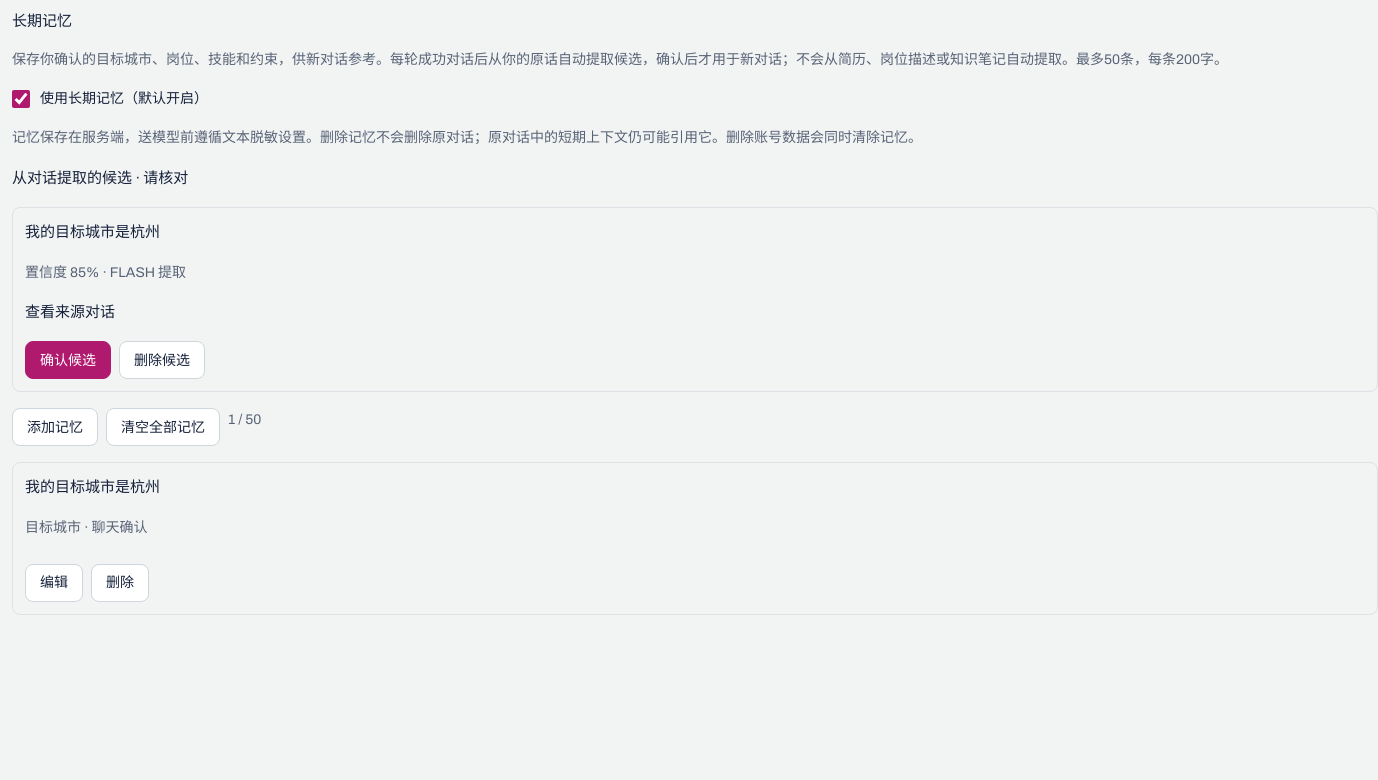
Test: shows exact extracted facts with confidence and source and confirms or discards explicitly
Click the button "确认候选" at (68, 360), box [25,341,111,379]
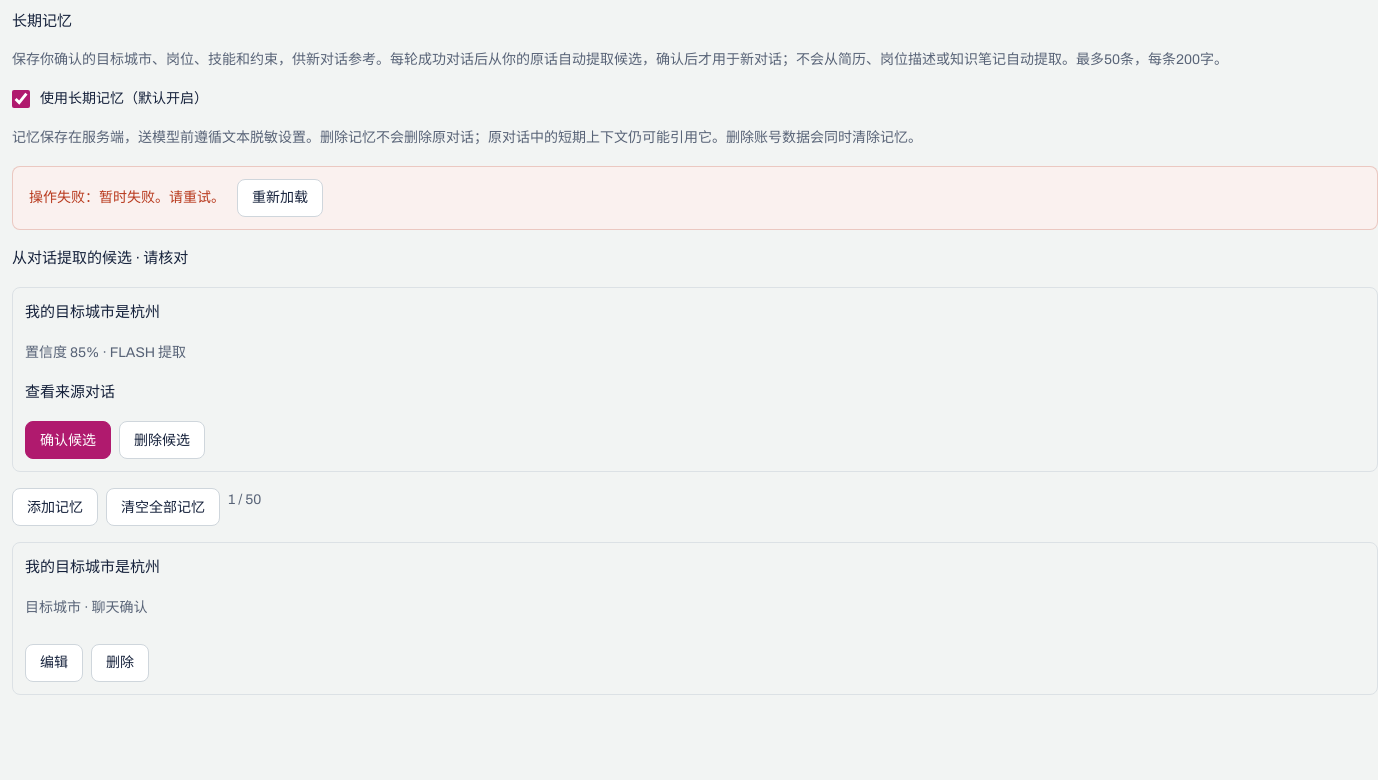
Check: the element named "待确认记忆" is shown, box [12,246,1377,472]
Check: the text "暂时失败" is shown, box [29,190,225,205]
Click the button "确认候选" at (68, 440), box [25,421,111,459]
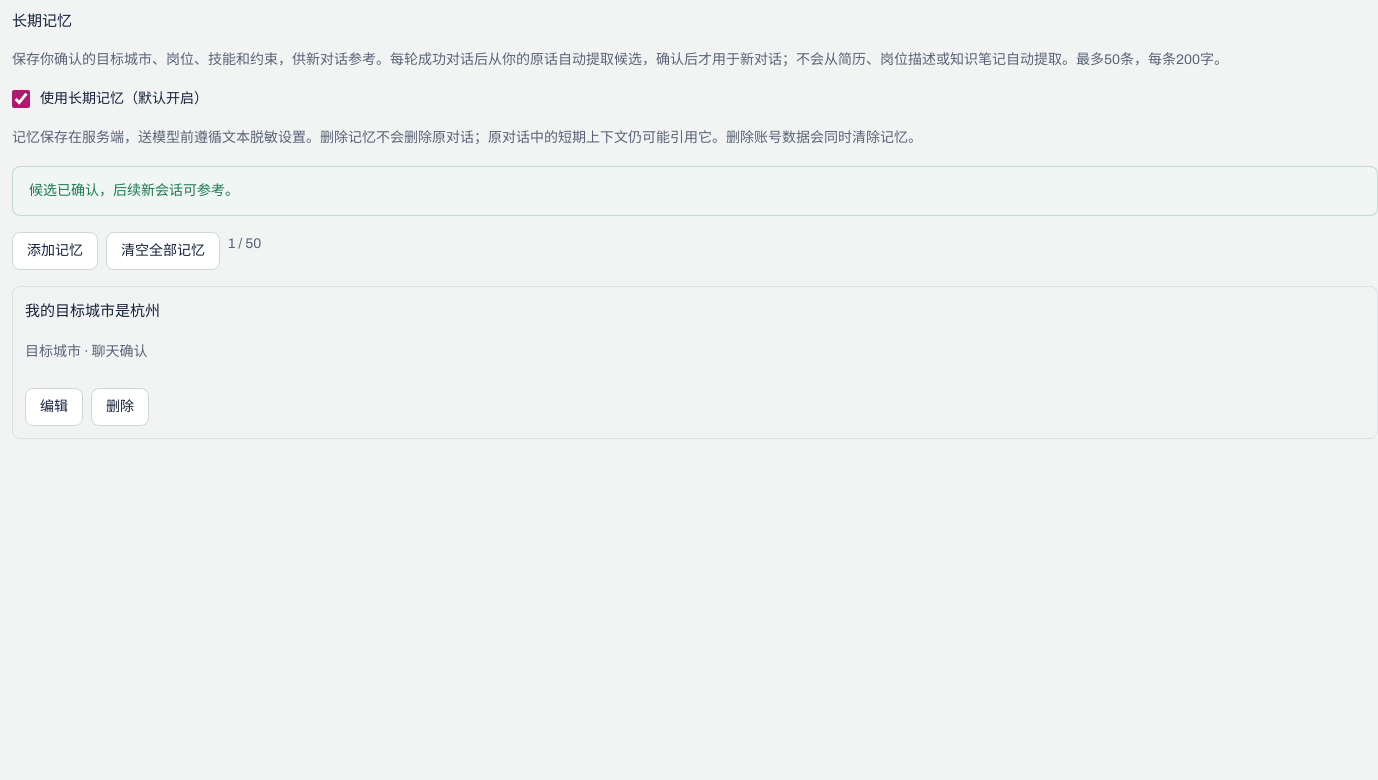
Check: the element named "待确认记忆" is gone
